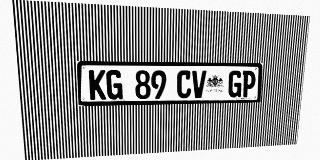8: (135, 70, 151, 99)
9: (151, 70, 166, 99)
C: (176, 70, 192, 98)
G: (106, 70, 123, 100), (228, 71, 242, 97)
K: (89, 70, 106, 100)
P: (241, 71, 256, 97)
V: (191, 70, 206, 98)
